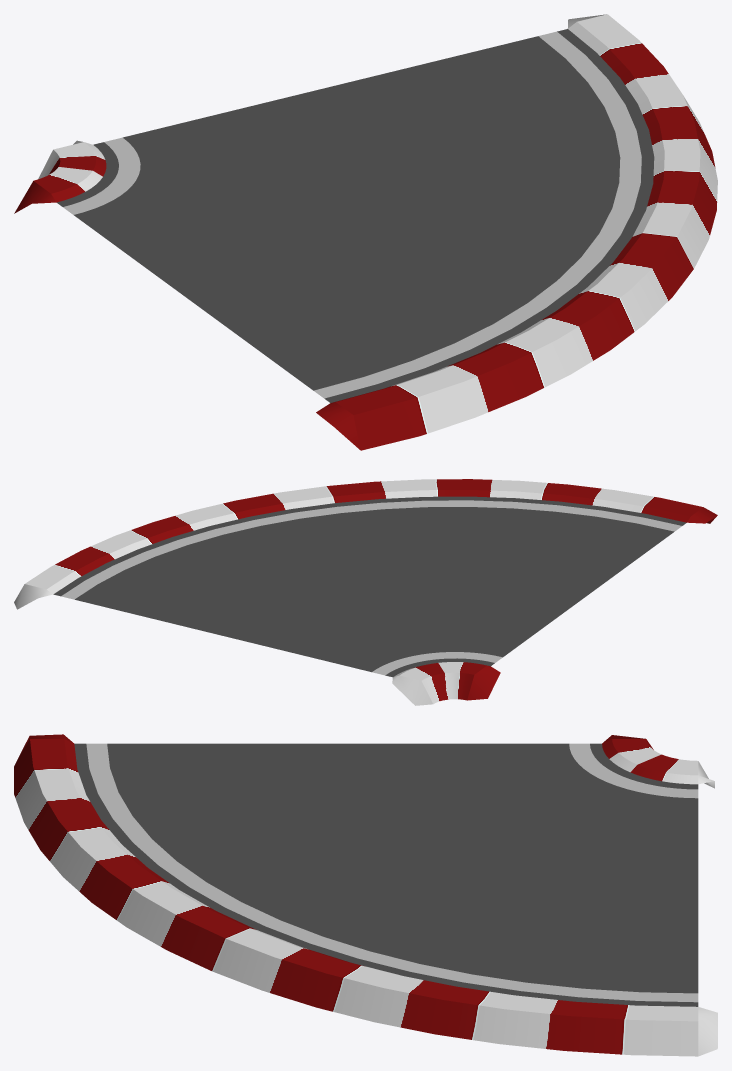
Rendered from Track_left_low.FBX.
The picture shows the model from 3 angles, top to bottom: view 1: azimuth 30°, elevation 25°; view 2: azimuth 150°, elevation 25°; view 3: azimuth 270°, elevation 25°; orthographic projection. The views are drawn at different scales.
Visible parts, largest first — view 1: Track_left_low, Track_left_low_Apex_Right (×2); view 2: Track_left_low, Track_left_low_Apex_Right (×2); view 3: Track_left_low, Track_left_low_Apex_Right (×2).
Boxes of the visible parts, x1,y1,x2,y2 form: Track_left_low: (56,29,654,402); Track_left_low_Apex_Right (×2): (14,14,717,450); Track_left_low: (53,496,686,677); Track_left_low_Apex_Right (×2): (14,479,717,705); Track_left_low: (74,743,698,1006); Track_left_low_Apex_Right (×2): (14,734,717,1056).
Size of the model in its own units: 1114 by 49.01 by 1108.
Materials: 1 (1 with a texture image).
